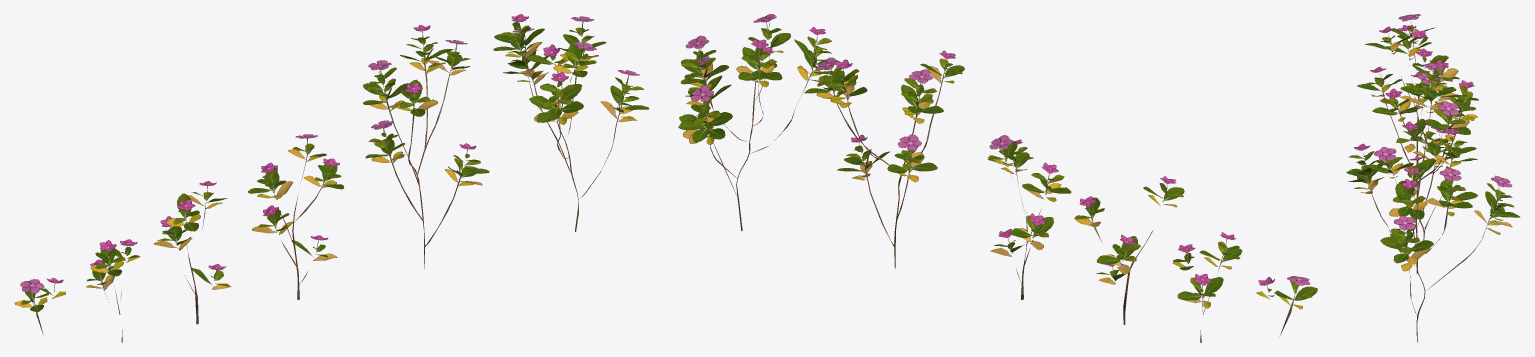
Rendered from far.gltf.
3 renders of one model, left to right at view 1: azimuth 30°, elevation 25°; view 2: azimuth 150°, elevation 25°; view 3: azimuth 270°, elevation 25°, orthographic. The views are drawn at different scales.
Visible parts, largest first — view 1: periwinkle_plant_01_LOD0, periwinkle_plant_02_LOD0, periwinkle_plant_03_LOD0, periwinkle_plant_04_LOD0, periwinkle_plant_05_LOD0, periwinkle_plant_06_LOD0; view 2: periwinkle_plant_01_LOD0, periwinkle_plant_02_LOD0, periwinkle_plant_03_LOD0, periwinkle_plant_04_LOD0, periwinkle_plant_05_LOD0, periwinkle_plant_06_LOD0; view 3: periwinkle_plant_01_LOD0, periwinkle_plant_02_LOD0, periwinkle_plant_03_LOD0, periwinkle_plant_04_LOD0, periwinkle_plant_05_LOD0, periwinkle_plant_06_LOD0.
Part boxes in pixels (x1,y1,x2,y2): periwinkle_plant_01_LOD0: (493, 14, 649, 231); periwinkle_plant_02_LOD0: (363, 25, 489, 268); periwinkle_plant_03_LOD0: (248, 134, 343, 299); periwinkle_plant_04_LOD0: (153, 181, 231, 324); periwinkle_plant_05_LOD0: (86, 239, 140, 342); periwinkle_plant_06_LOD0: (14, 278, 65, 335); periwinkle_plant_01_LOD0: (678, 14, 839, 230); periwinkle_plant_02_LOD0: (804, 50, 964, 268); periwinkle_plant_03_LOD0: (987, 135, 1071, 299); periwinkle_plant_04_LOD0: (1074, 176, 1184, 324); periwinkle_plant_05_LOD0: (1172, 232, 1242, 342); periwinkle_plant_06_LOD0: (1256, 276, 1317, 335); periwinkle_plant_01_LOD0: (1346, 128, 1519, 342); periwinkle_plant_02_LOD0: (1357, 63, 1478, 273); periwinkle_plant_03_LOD0: (1372, 72, 1446, 203); periwinkle_plant_04_LOD0: (1365, 26, 1460, 163); periwinkle_plant_05_LOD0: (1386, 25, 1459, 104); periwinkle_plant_06_LOD0: (1391, 14, 1434, 73).
Bounding box in the file's own units: 1.24 × 0.4107 × 0.3207.
1 material, 1 textured.
